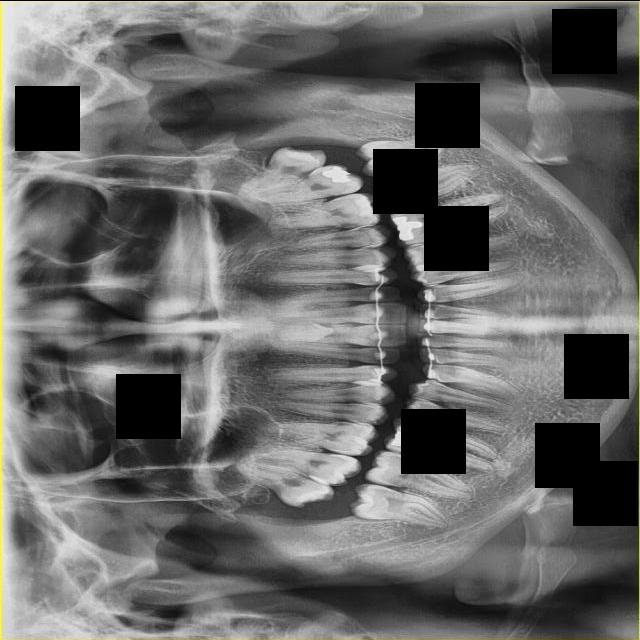NucleOSS Implant: (391, 208, 426, 243), (323, 165, 352, 182), (391, 430, 418, 447)
Sterngold Implant: (348, 412, 377, 426), (405, 419, 425, 433), (351, 223, 376, 233), (367, 396, 383, 404), (409, 413, 425, 421), (394, 203, 412, 209), (395, 209, 412, 213)
